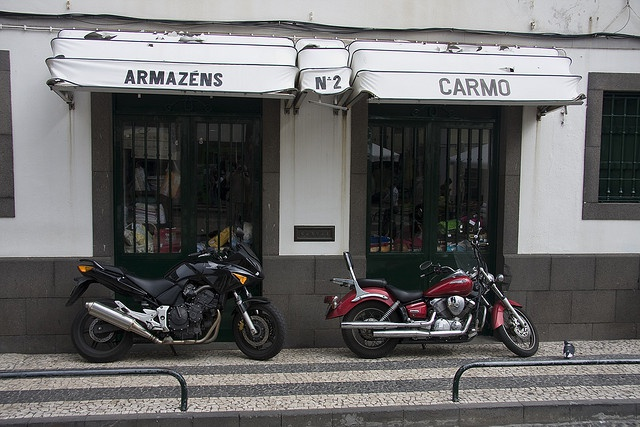non-vehicle: (64, 225, 285, 363), (323, 219, 539, 357)
